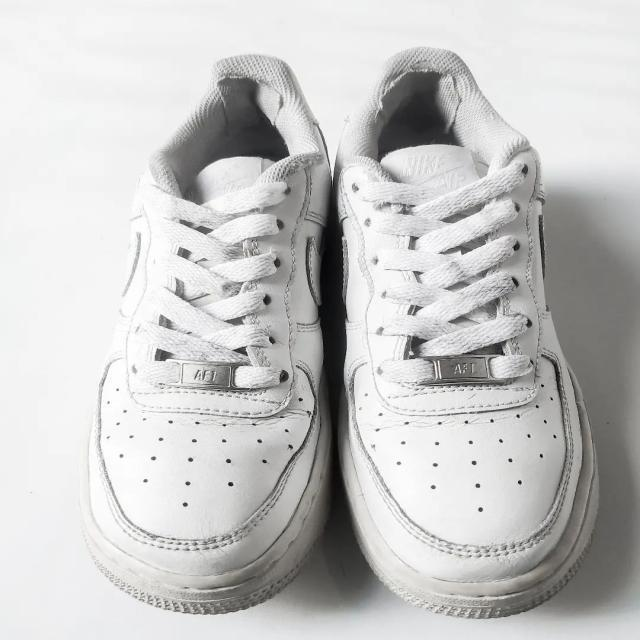nike fake air force: (333, 56, 602, 627), (80, 55, 332, 610)
